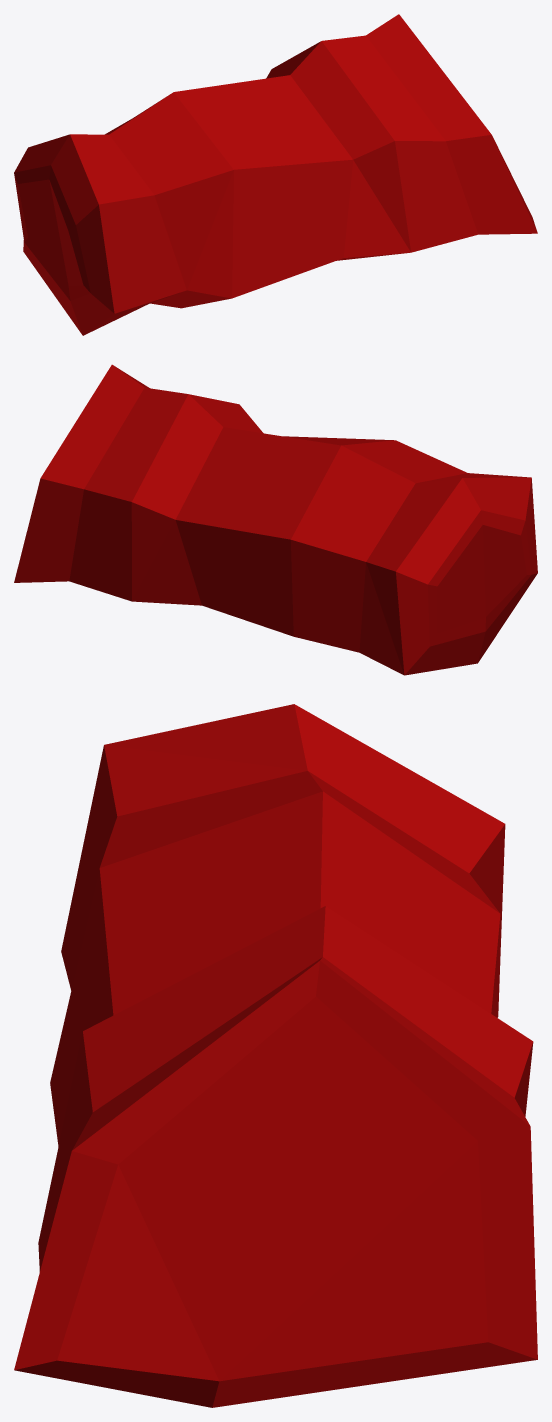
Rendered from Chr_ArmUpperRight_Male_Static_14.fbx.
The picture shows the model from 3 angles, top to bottom: view 1: azimuth 30°, elevation 25°; view 2: azimuth 150°, elevation 25°; view 3: azimuth 270°, elevation 25°; orthographic projection. The views are drawn at different scales.
Visible parts, largest first — view 1: Chr_ArmUpperRight_Male_14; view 2: Chr_ArmUpperRight_Male_14; view 3: Chr_ArmUpperRight_Male_14.
Part boxes in pixels (x1,y1,x2,y2): Chr_ArmUpperRight_Male_14: (14, 14, 537, 335); Chr_ArmUpperRight_Male_14: (14, 364, 537, 675); Chr_ArmUpperRight_Male_14: (14, 704, 537, 1407).
Size of the model in its own units: 32.55 by 16.25 by 17.36.
